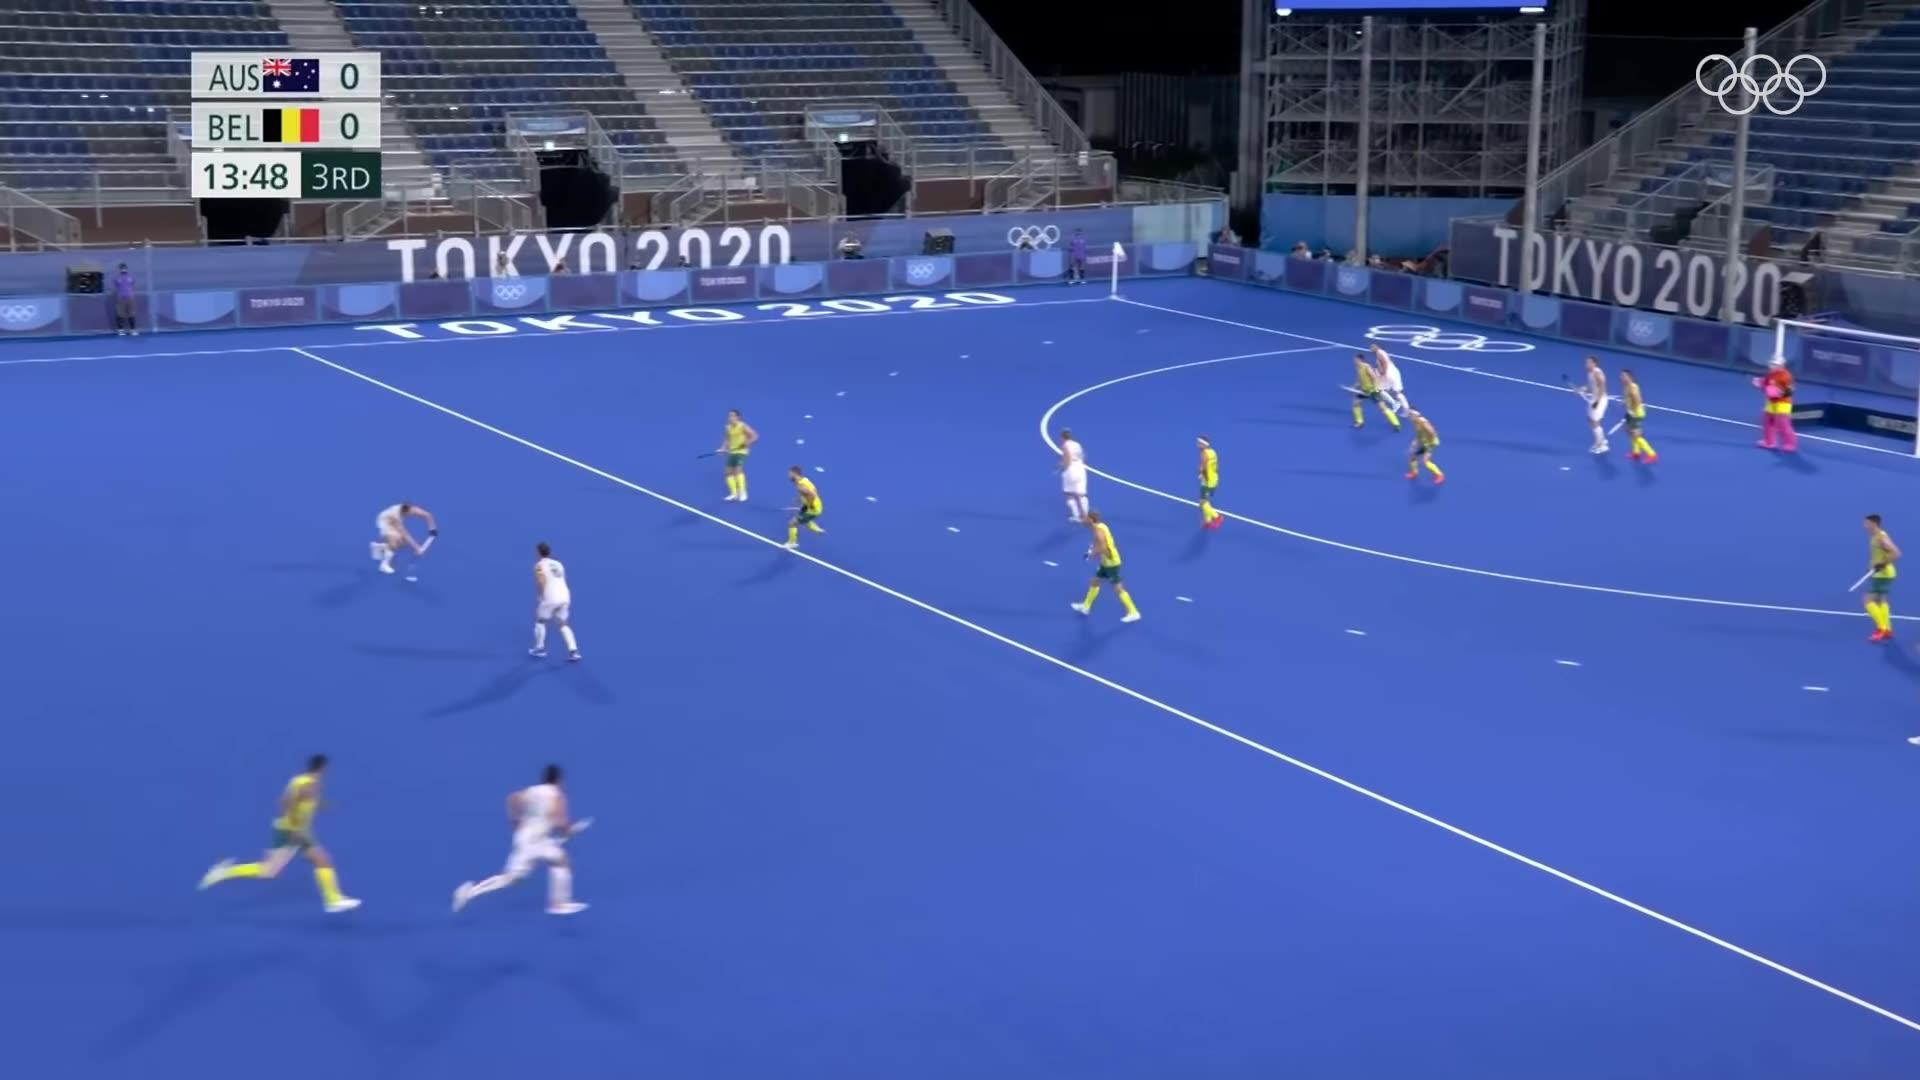ball: (402, 568, 420, 590)
